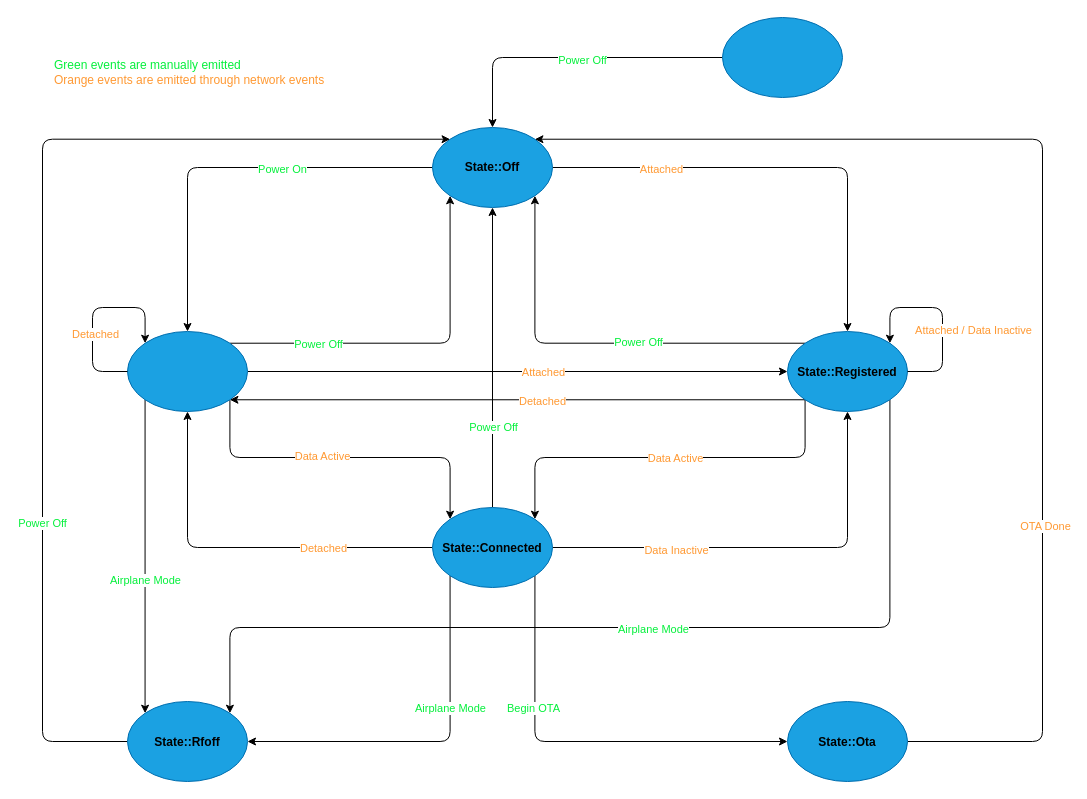
This 1087x799 diagram has some shape labels left out. Here are the shapes that lost their labels. From the top down, the centre of each, then its label:
At pixel 782 57: "State::Unknown".
At pixel 187 371: "State::On".
